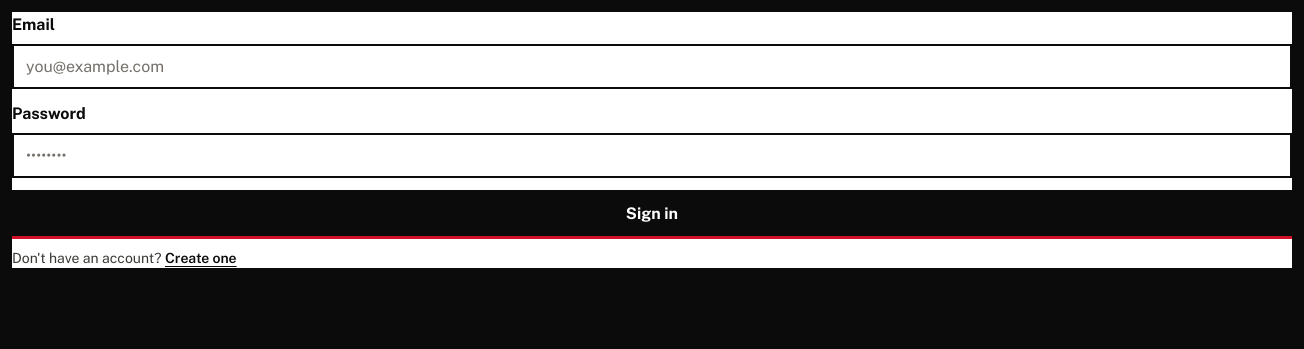
Test: UserAuthForm › shows an error message when auth fails
Type "a@b.com" into the field with placeholder "you@example.com".
click(652, 66); type("a@b.com")  # box left=12, top=44, right=1292, bottom=89
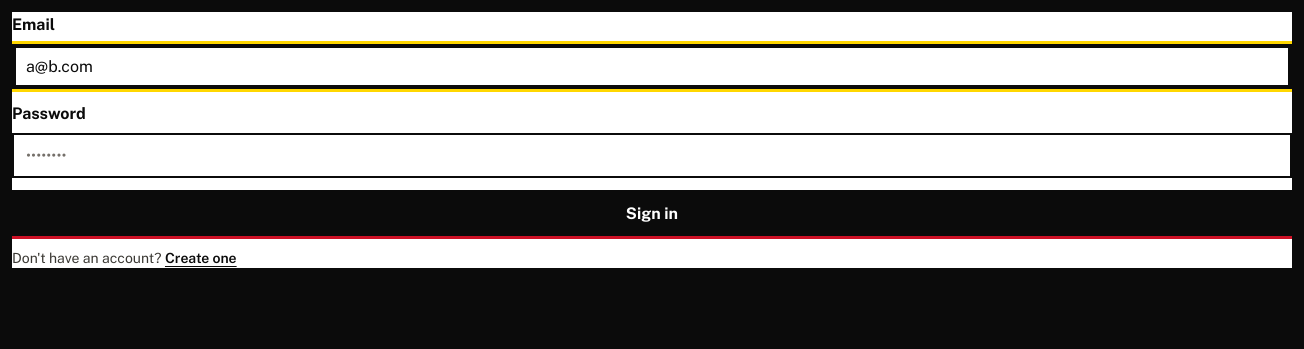
Type "wrongpass" into the password field with placeholder "••••••••".
click(652, 156); type("wrongpass")  # box left=12, top=133, right=1292, bottom=178
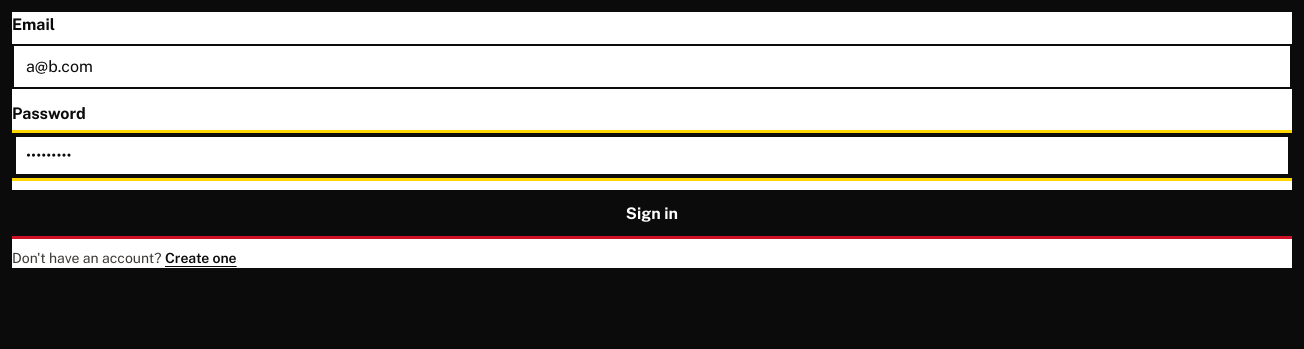
Click the button "Sign in".
click(652, 213)  # box left=12, top=190, right=1292, bottom=236
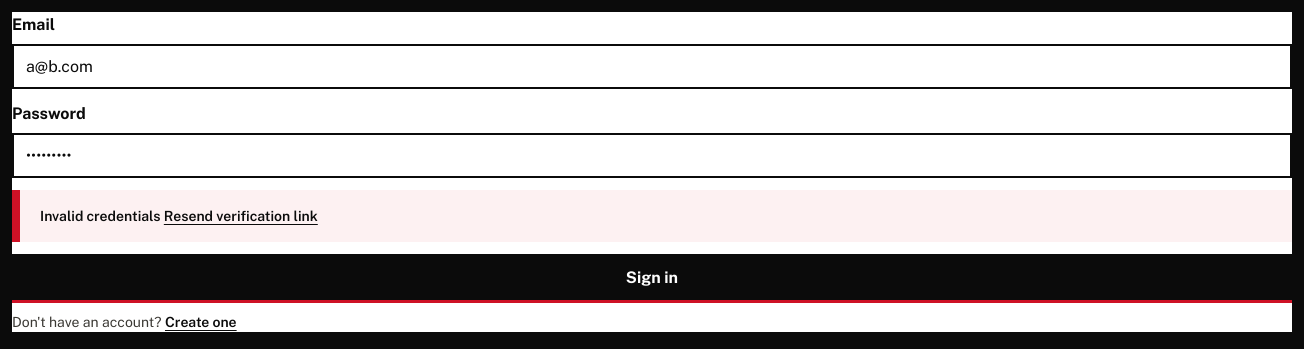
Now the text "Invalid credentials" is shown, box left=40, top=208, right=160, bottom=224
